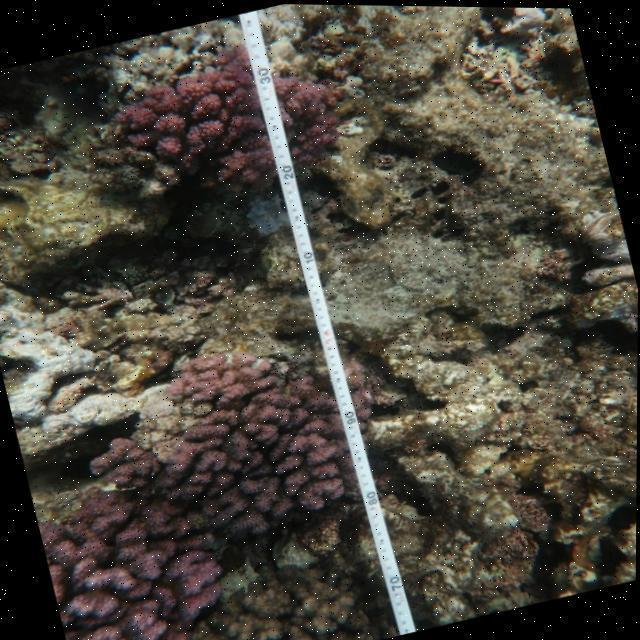Healthy Coral: (58, 314, 398, 574), (90, 22, 363, 226), (32, 463, 250, 640)
